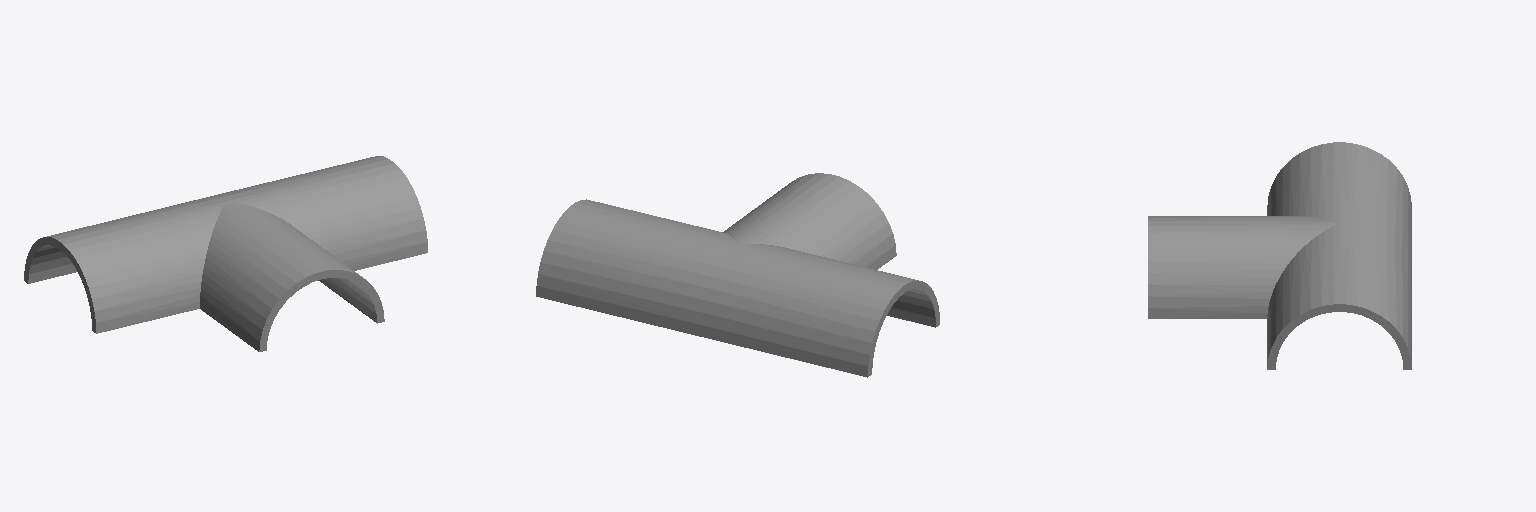
3 renders of one model, left to right at view 1: azimuth 30°, elevation 25°; view 2: azimuth 150°, elevation 25°; view 3: azimuth 270°, elevation 25°, orthographic.
Parts seen in each view (by area): view 1: Body1; view 2: Body1; view 3: Body1.
Boxes of the visible parts, x1=… form: Body1: x1=24, y1=156, x2=427, y2=351; Body1: x1=536, y1=173, x2=939, y2=377; Body1: x1=1148, y1=142, x2=1411, y2=369.
Bounding box in the file's own units: 45 × 8.5 × 31.